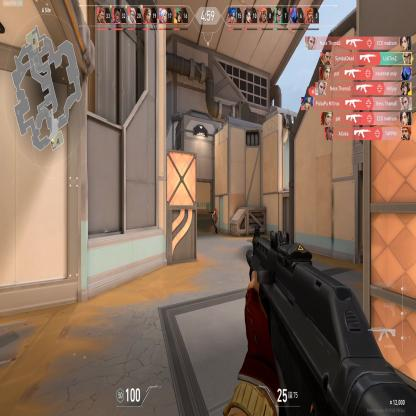enemy: (211, 207, 218, 235)
